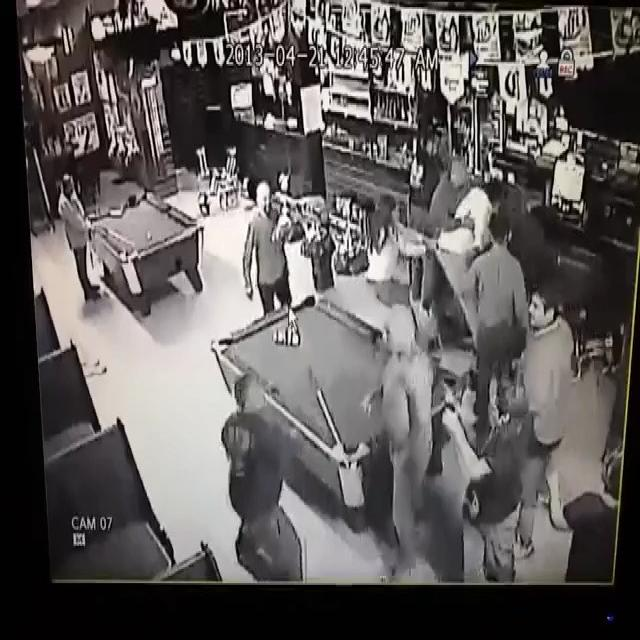fight: (343, 157, 512, 402)
